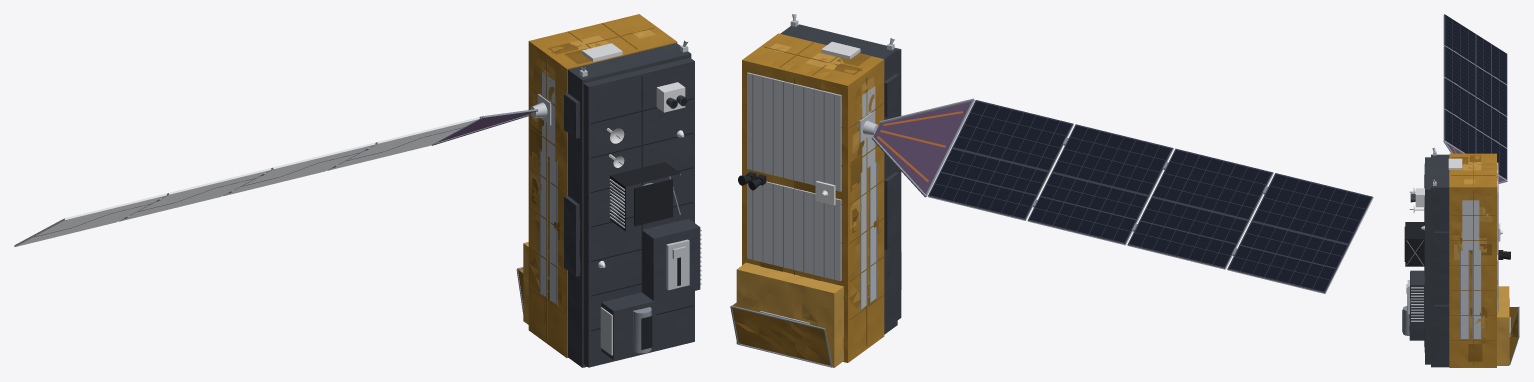
Rendered from metop-sg-a.glb.
The picture shows the model from 3 angles, left to right: view 1: azimuth 30°, elevation 25°; view 2: azimuth 150°, elevation 25°; view 3: azimuth 270°, elevation 25°; orthographic projection. The views are drawn at different scales.
Parts seen in each view (by area): view 1: foil, body; view 2: solar-panel, foil, body; view 3: foil, solar-panel, body.
Part boxes in pixels (x1,y1,x2,y2): foil: (518,14,700,367); body: (14,40,701,355); solar-panel: (928,100,1372,292); foil: (732,24,901,367); body: (730,14,1373,367); foil: (1405,153,1518,367); solar-panel: (1444,14,1507,179); body: (1402,14,1519,364).
Size of the model in its own units: 14.58 by 6.88 by 3.82.
